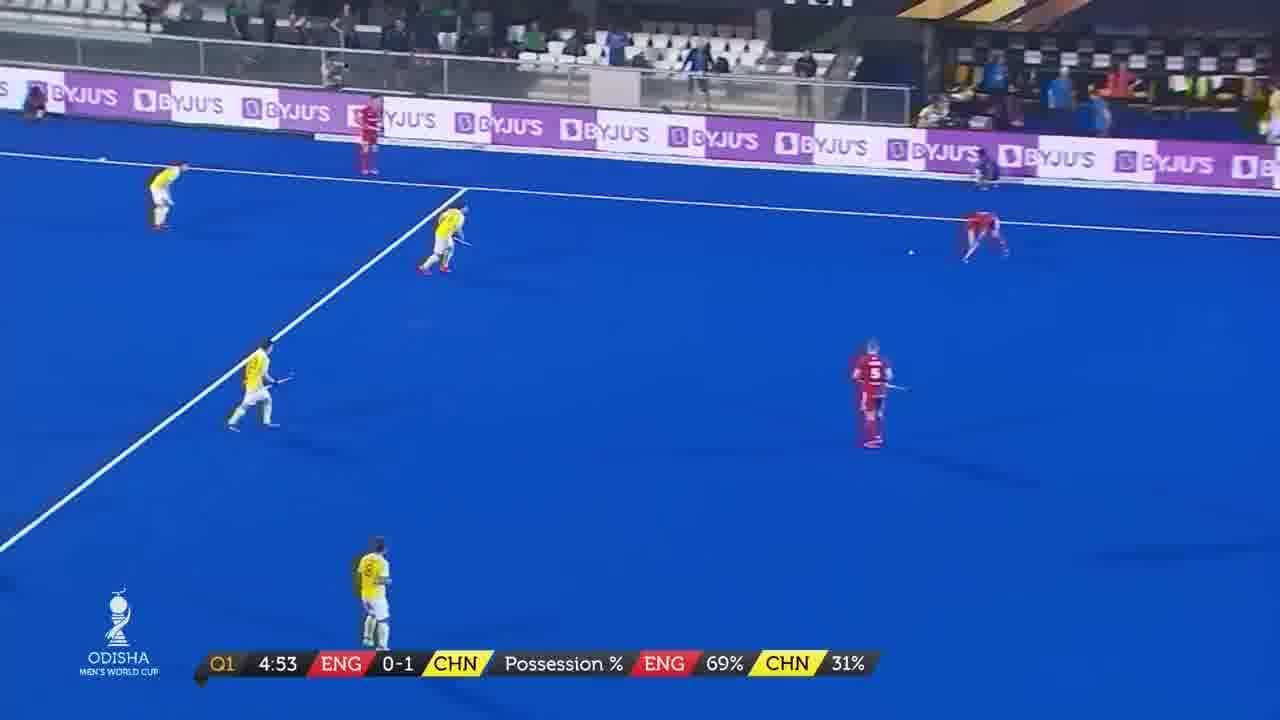ball: (910, 248, 917, 256)
